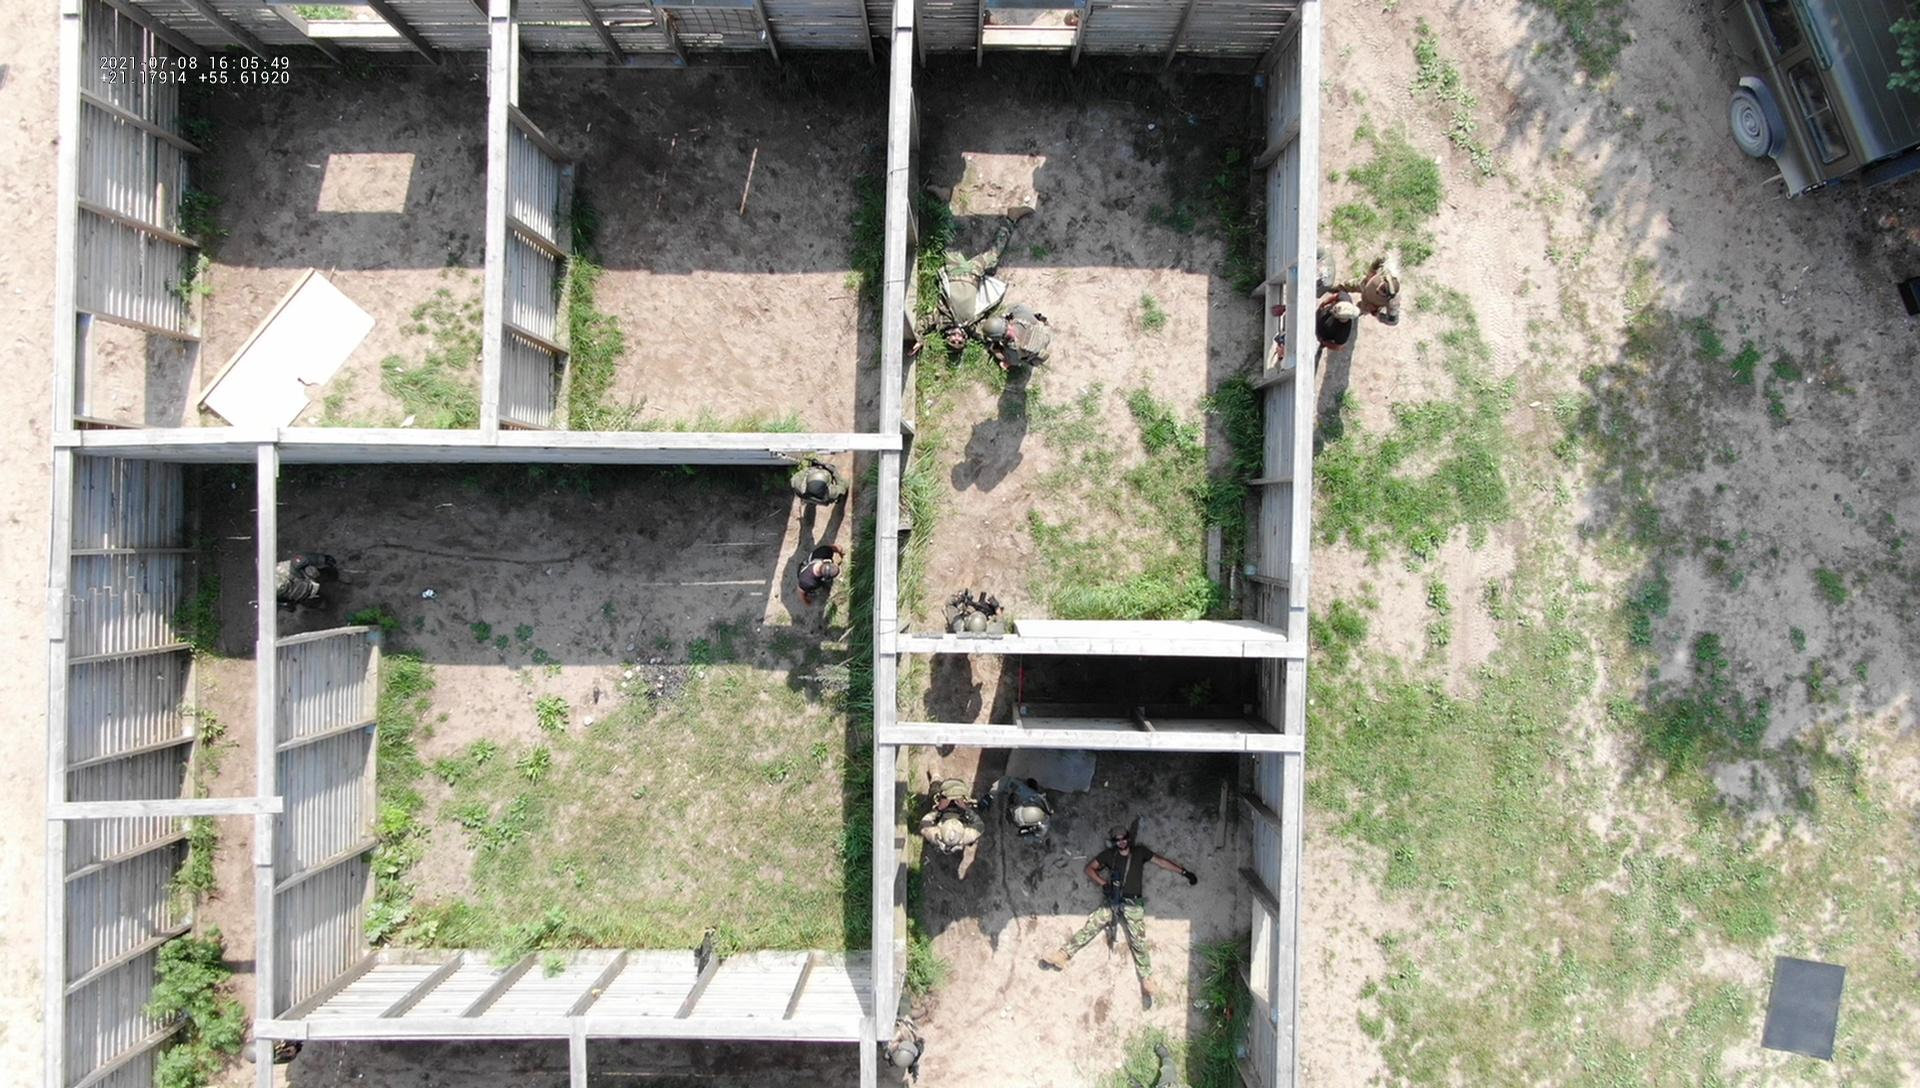Soldier: (1056, 828, 1197, 996), (905, 179, 1009, 368), (905, 750, 992, 857), (975, 294, 1060, 386), (270, 537, 361, 619), (990, 793, 1080, 874), (787, 451, 862, 534), (1350, 249, 1410, 334), (934, 582, 1013, 644)
